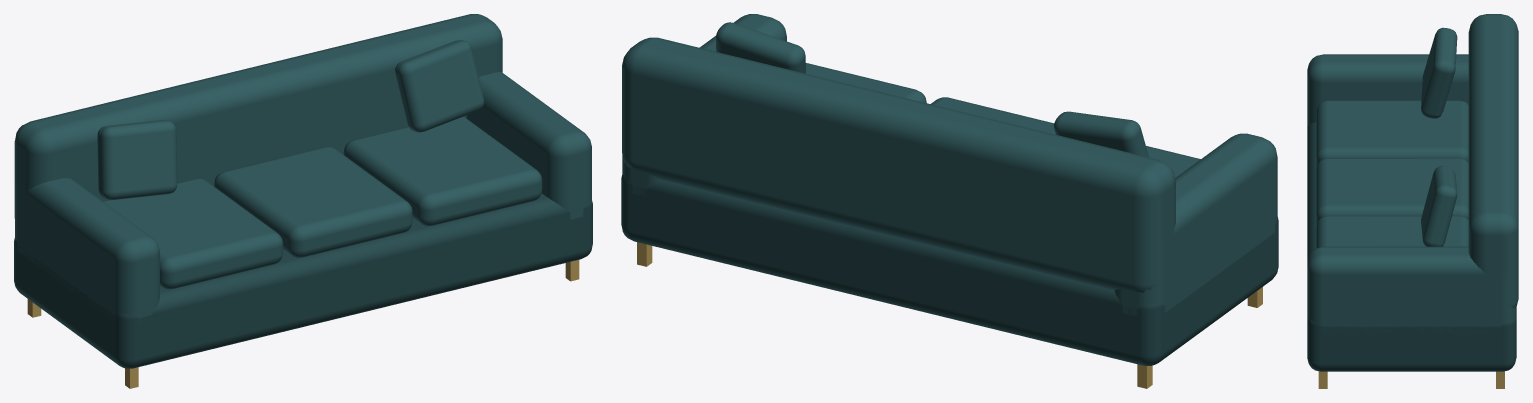
File: sofa-veludo.glb
The picture shows the model from 3 angles, left to right: view 1: azimuth 30°, elevation 25°; view 2: azimuth 150°, elevation 25°; view 3: azimuth 270°, elevation 25°; orthographic projection. The views are drawn at different scales.
Parts seen in each view (by area): view 1: sofa-veludo_malha; view 2: sofa-veludo_malha; view 3: sofa-veludo_malha.
Part boxes in pixels (bbox=[...]): sofa-veludo_malha: bbox=[14, 14, 592, 388]; sofa-veludo_malha: bbox=[621, 14, 1278, 388]; sofa-veludo_malha: bbox=[1307, 14, 1518, 388].
Size of the model in its own units: 2.2 by 0.8823 by 0.93.
